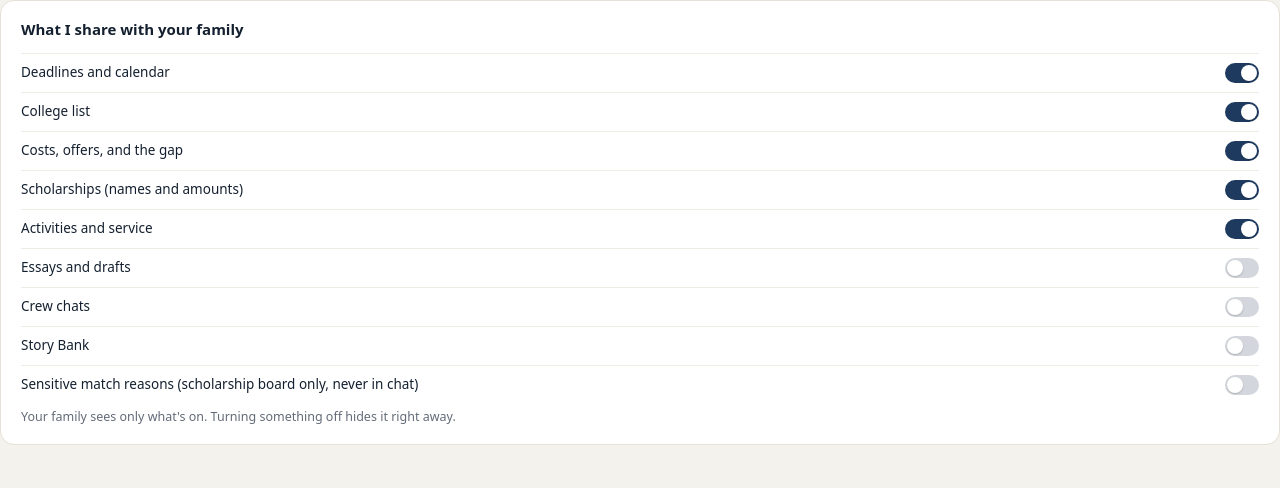
Test: ShareToggles (FA-02) › reverts when saving fails
The width and height of the screenshot is (1280, 488).
Step 1. Click the switch named "College list" in the row of "College list" → (1242, 112), box x1=1225 y1=102 x2=1259 y2=122
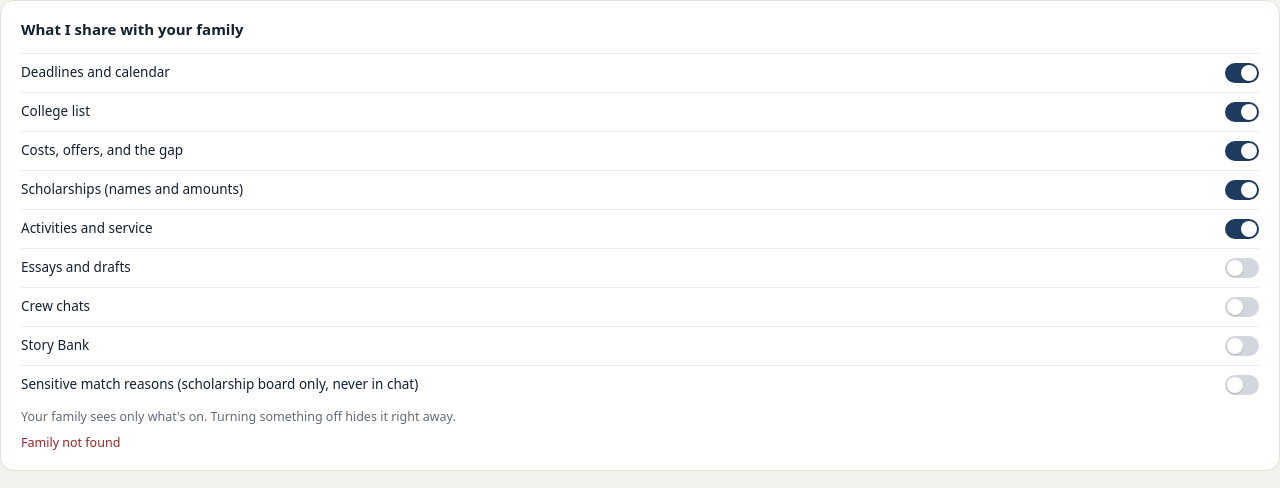
Now the text "Family not found" is shown, box x1=21 y1=434 x2=120 y2=451
